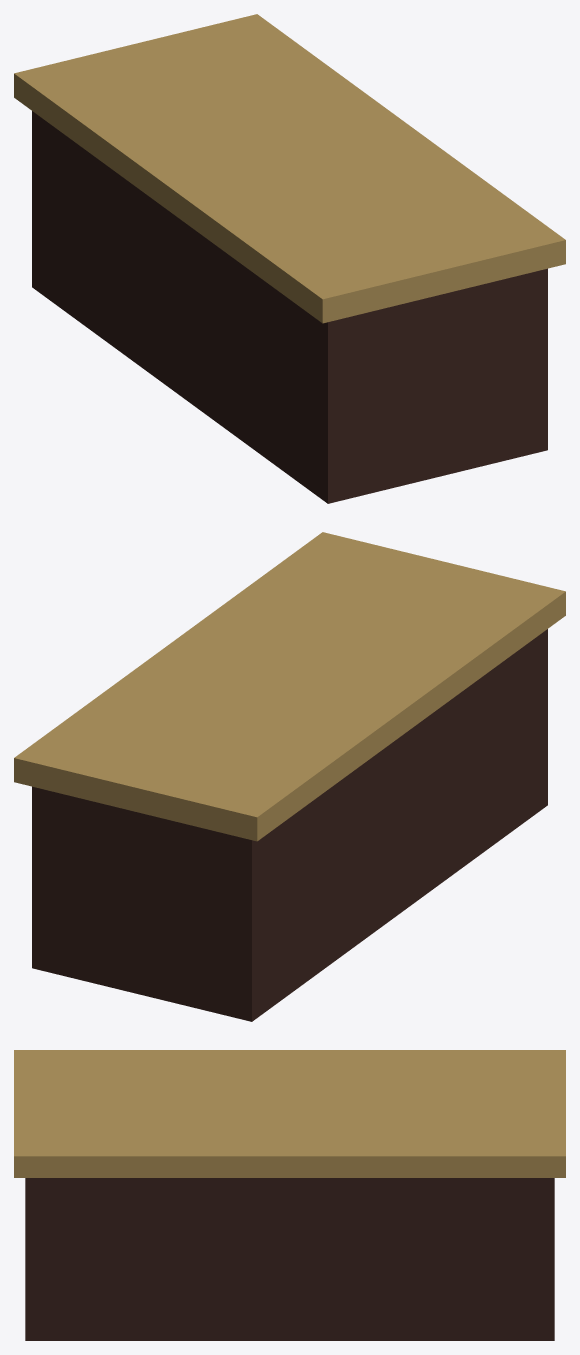
File: estandeM.fbx
3 views of the same model, one above another, from view 1: azimuth 30°, elevation 25°; view 2: azimuth 150°, elevation 25°; view 3: azimuth 270°, elevation 25° (orthographic). The views are drawn at different scales.
Visible parts, largest first — view 1: EstandeM; view 2: EstandeM; view 3: EstandeM.
Part boxes in pixels (left/top/right/bottom): EstandeM: left=14, top=14, right=565, bottom=503; EstandeM: left=14, top=532, right=565, bottom=1021; EstandeM: left=14, top=1050, right=565, bottom=1340.
Size of the model in its own units: 120 by 100 by 264.
